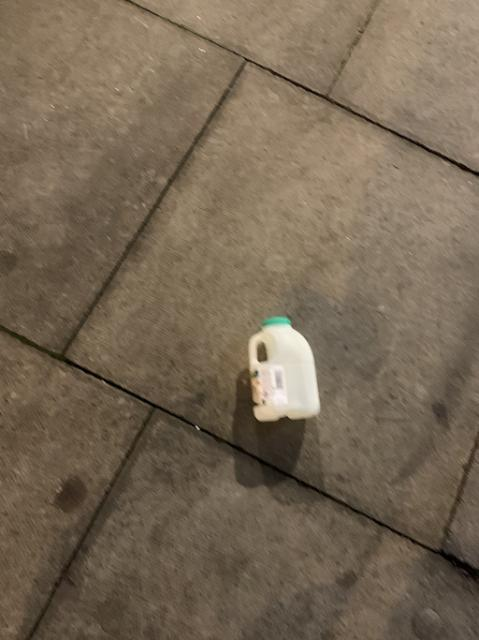plastic: (247, 316, 319, 420)
